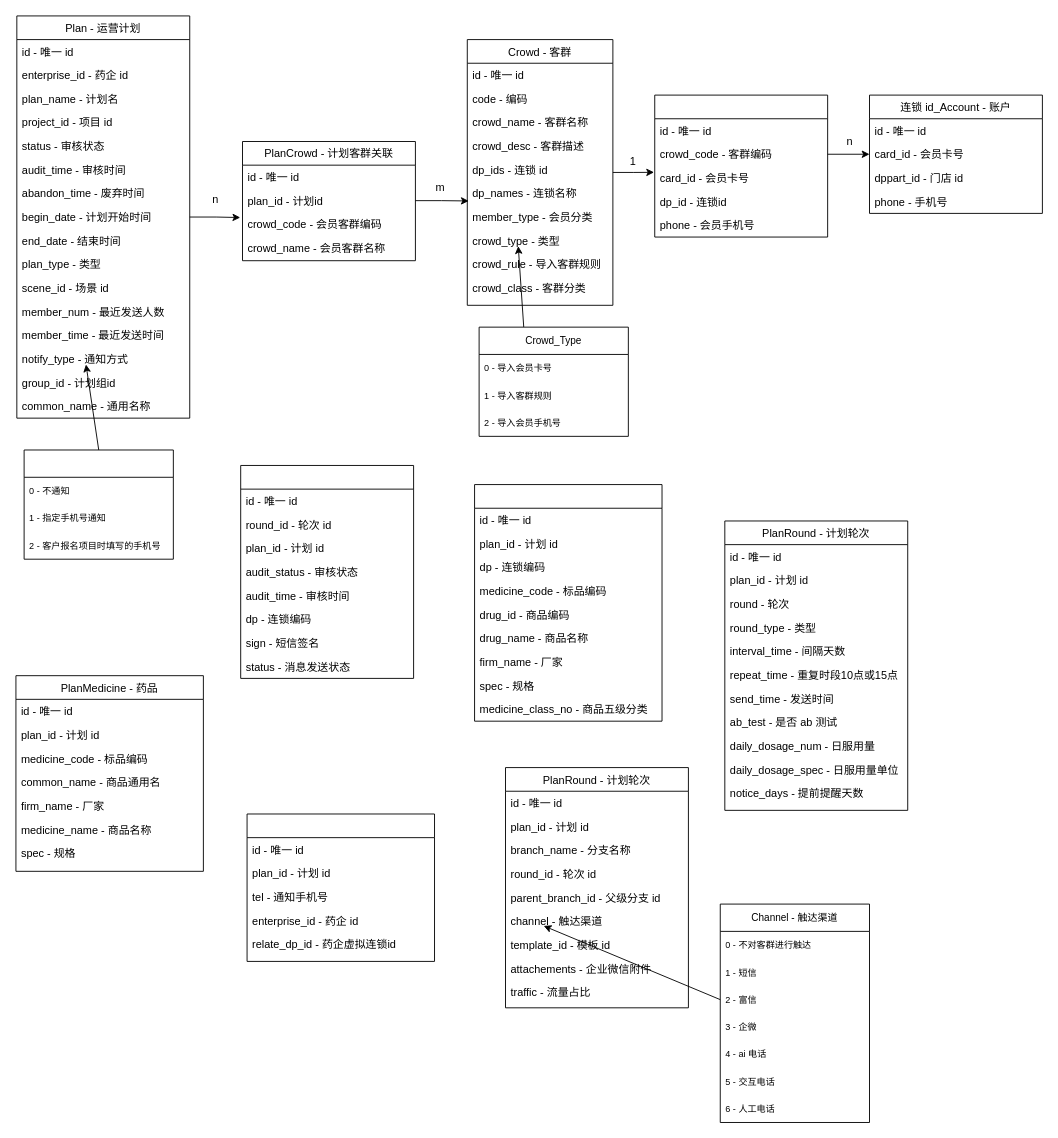
Some shapes in this 1058 by 1138 pixel diagram are drawn without their labels. The shapes that lost their labels are listed below. From the top down, each one's box as (x1, y1, x2, y2) in pixels, then its label:
(654, 94, 828, 237): CrowdAccount - 客群账户
(23, 449, 173, 559): Notify_Type
(240, 465, 414, 678): PlanDpRound - 计划轮次
(474, 484, 662, 721): PlanDpDrug - 计划
(246, 813, 435, 961): PlanNotifyTel - 计划通知手机号
